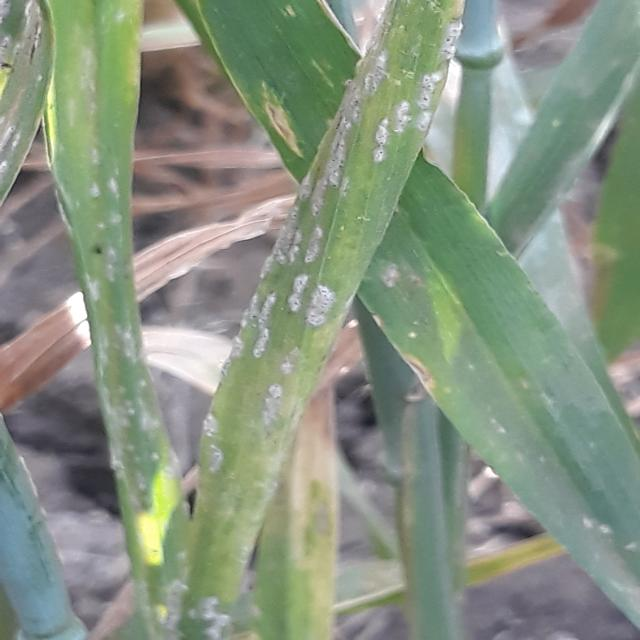powder_mildew: (178, 0, 496, 640), (0, 0, 184, 640), (492, 276, 639, 640)
